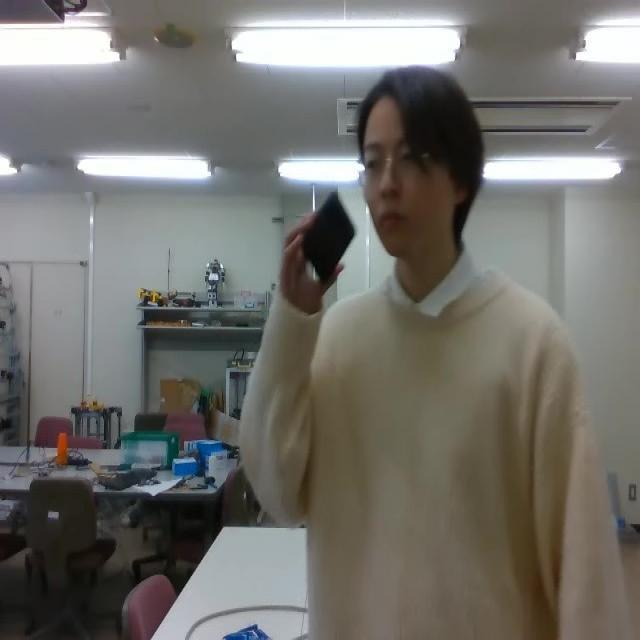Phone: (298, 190, 356, 286)
